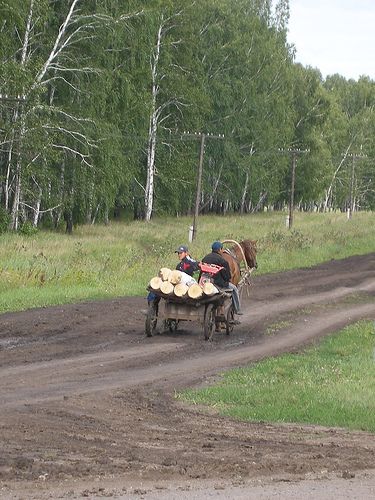horse: (209, 236, 261, 333)
